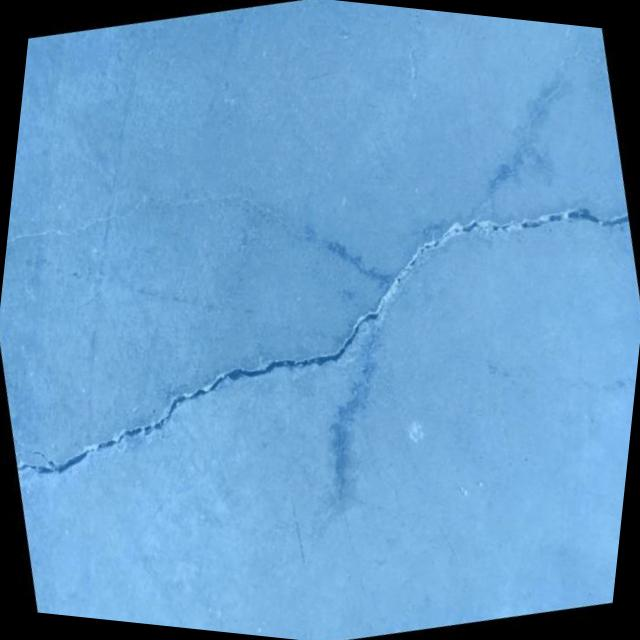crack: (0, 132, 640, 541)
